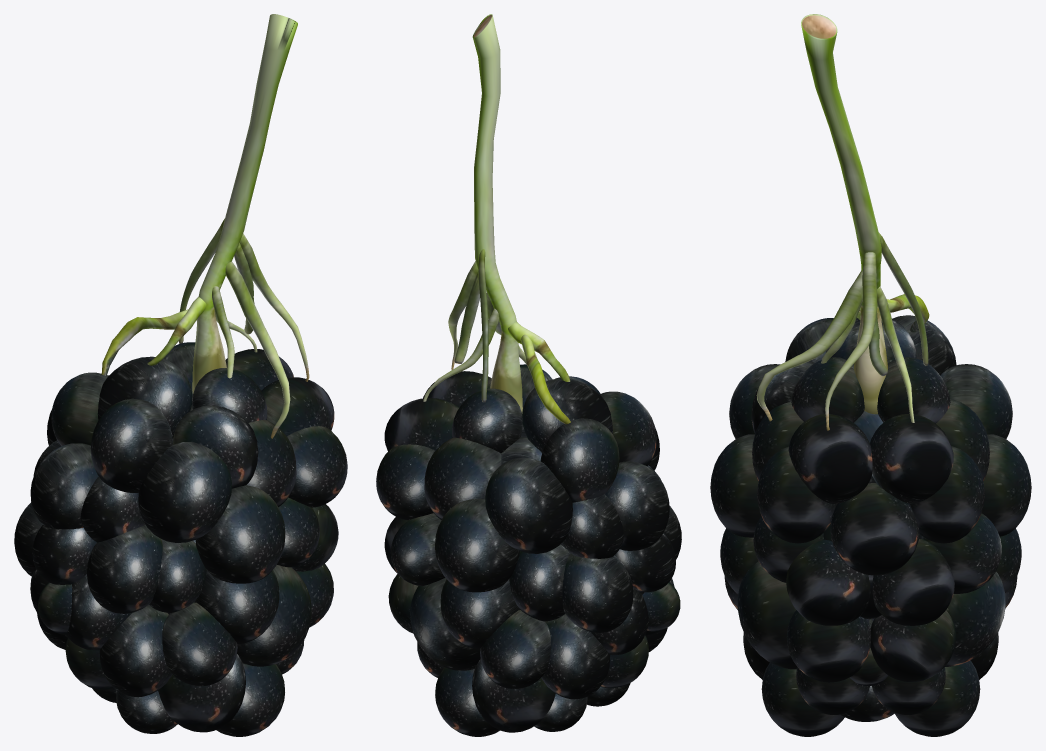
File: blackberry-2.glb
3 renders of one model, left to right at view 1: azimuth 30°, elevation 25°; view 2: azimuth 150°, elevation 25°; view 3: azimuth 270°, elevation 25°, orthographic. The views are drawn at different scales.
Parts seen in each view (by area): view 1: Material-material, Material_001-material; view 2: Material-material, Material_001-material; view 3: Material-material, Material_001-material.
Part boxes in pixels (x1,y1,x2,y2): Material-material: (14,342,347,736); Material_001-material: (101,14,309,438); Material-material: (376,364,681,736); Material_001-material: (423,14,570,424); Material-material: (710,315,1031,736); Material_001-material: (756,14,929,430).
Bounding box in the file's own units: 5.87 × 13.53 × 5.32.
Materials: 2 (2 with a texture image).
